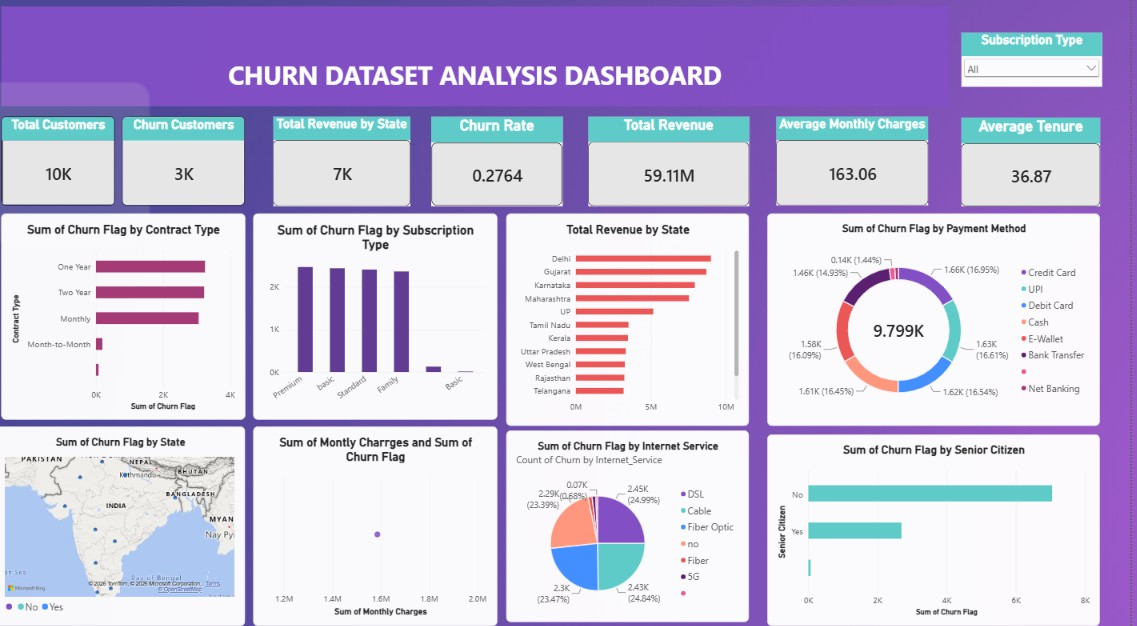

What the dashboard file says about the page in this screenshot:
{"tool":"powerbi","page":{"name":"Overview","canvas":[1920,1080],"ordinal":0},"visuals":[{"type":"textbox","box":[10,13.4,1601.3,168.6],"z":0},{"type":"cardVisual","title":"Total Customers","fields":{"Data":["cleaned_customer_data.Total Customers"]},"box":[10,198.7,192,150.3],"z":1000},{"type":"cardVisual","title":"Churn Customers","fields":{"Data":["cleaned_customer_data.Churn Customers"]},"box":[215.4,198.7,207.1,150.3],"z":2000},{"type":"cardVisual","title":"Total Revenue by State","fields":{"Data":["cleaned_customer_data.Retained Customers"]},"box":[469.2,198.7,232.1,151.9],"z":3000},{"type":"barChart","title":"Sum of Churn Flag by Contract Type","fields":{"Category":["cleaned_customer_data.Contract_Type"],"Y":["CountNonNull(cleaned_customer_data.Churn)"]},"box":[10,364,412.4,349],"z":4000},{"type":"columnChart","title":"Sum of Churn Flag by Subscription Type","fields":{"Category":["cleaned_customer_data.Subscription_Type"],"Y":["CountNonNull(cleaned_customer_data.Churn)"]},"box":[435.8,364,412.4,349],"z":5000},{"type":"barChart","title":"Total Revenue by State","fields":{"Category":["cleaned_customer_data.State"],"Y":["Sum(cleaned_customer_data.Total_Charges)"]},"box":[863.3,364,410.8,359],"z":6000},{"type":"donutChart","title":"Sum of Churn Flag by Payment Method","fields":{"Category":["cleaned_customer_data.Payment_Method"],"Y":["CountNonNull(cleaned_customer_data.Payment_Method)"]},"box":[1305.8,364,562.7,359],"z":7000},{"type":"map","title":"Sum of Churn Flag by State","fields":{"Category":["cleaned_customer_data.State"],"Series":["cleaned_customer_data.Churn"]},"box":[0,723,422.5,337.3],"z":8000},{"type":"scatterChart","title":"Sum of Montly Charrges and Sum of Churn Flag","fields":{"X":["Sum(cleaned_customer_data.Monthly_Charges)"]},"box":[435.8,723,412.4,337.3],"z":9000},{"type":"pieChart","title":"Sum of Churn Flag by Internet Service","fields":{"Category":["cleaned_customer_data.Internet_Service"],"Y":["CountNonNull(cleaned_customer_data.Churn)"]},"box":[863.3,729.7,410.8,323.9],"z":10000},{"type":"clusteredBarChart","title":"Sum of Churn Flag by Senior Citizen","fields":{"Category":["cleaned_customer_data.Churn"],"Y":["CountNonNull(cleaned_customer_data.Senior_Citizen)"]},"box":[1305.8,736.4,562.7,323.9],"z":11000},{"type":"cardVisual","title":"Churn Rate","fields":{"Data":["cleaned_customer_data.Churn Rate"]},"box":[736.4,198.7,222.1,151.9],"z":13000},{"type":"cardVisual","title":"Total Revenue","fields":{"Data":["cleaned_customer_data.Total Revenue"]},"box":[1001.9,198.7,272.2,151.9],"z":13001},{"type":"cardVisual","title":"Average Monthly Charges","fields":{"Data":["cleaned_customer_data.Average Monthly Charges"]},"box":[1320.8,198.7,257.1,150.3],"z":13002},{"type":"cardVisual","title":"Average Tenure","fields":{"Data":["cleaned_customer_data.Average Tenure"]},"box":[1633,200.4,235.4,150.3],"z":13003},{"type":"slicer","title":"Subscription Type","fields":{"Values":["cleaned_customer_data.Subscription_Type"]},"box":[1633,56.8,238.8,91.8],"z":13004}]}

Visuals, with their boxes in screenshot pixels (x1, y1, x2, y2), scaled from the page's 1920x1080 canvas onto the 1137x626 screenshot:
textbox: Rect(6, 8, 954, 105)
"Total Customers" cardVisual: Rect(6, 115, 120, 202)
"Churn Customers" cardVisual: Rect(128, 115, 250, 202)
"Total Revenue by State" cardVisual: Rect(278, 115, 415, 203)
"Sum of Churn Flag by Contract Type" barChart: Rect(6, 211, 250, 413)
"Sum of Churn Flag by Subscription Type" columnChart: Rect(258, 211, 502, 413)
"Total Revenue by State" barChart: Rect(511, 211, 755, 419)
"Sum of Churn Flag by Payment Method" donutChart: Rect(773, 211, 1107, 419)
"Sum of Churn Flag by State" map: Rect(0, 419, 250, 615)
"Sum of Montly Charrges and Sum of Churn Flag" scatterChart: Rect(258, 419, 502, 615)
"Sum of Churn Flag by Internet Service" pieChart: Rect(511, 423, 755, 611)
"Sum of Churn Flag by Senior Citizen" clusteredBarChart: Rect(773, 427, 1107, 615)
"Churn Rate" cardVisual: Rect(436, 115, 568, 203)
"Total Revenue" cardVisual: Rect(593, 115, 755, 203)
"Average Monthly Charges" cardVisual: Rect(782, 115, 934, 202)
"Average Tenure" cardVisual: Rect(967, 116, 1106, 203)
"Subscription Type" slicer: Rect(967, 33, 1108, 86)
